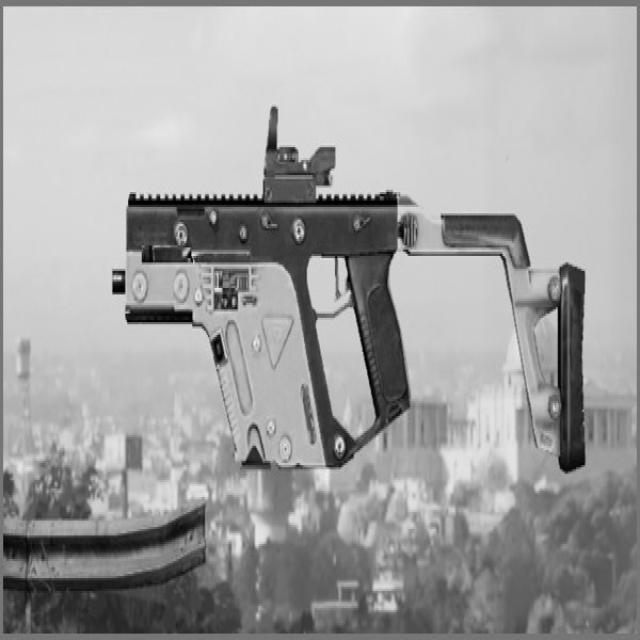Sub-machine-gun: (110, 104, 594, 506)
